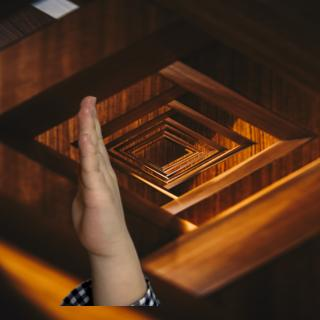RIGHT: (65, 89, 135, 259)
